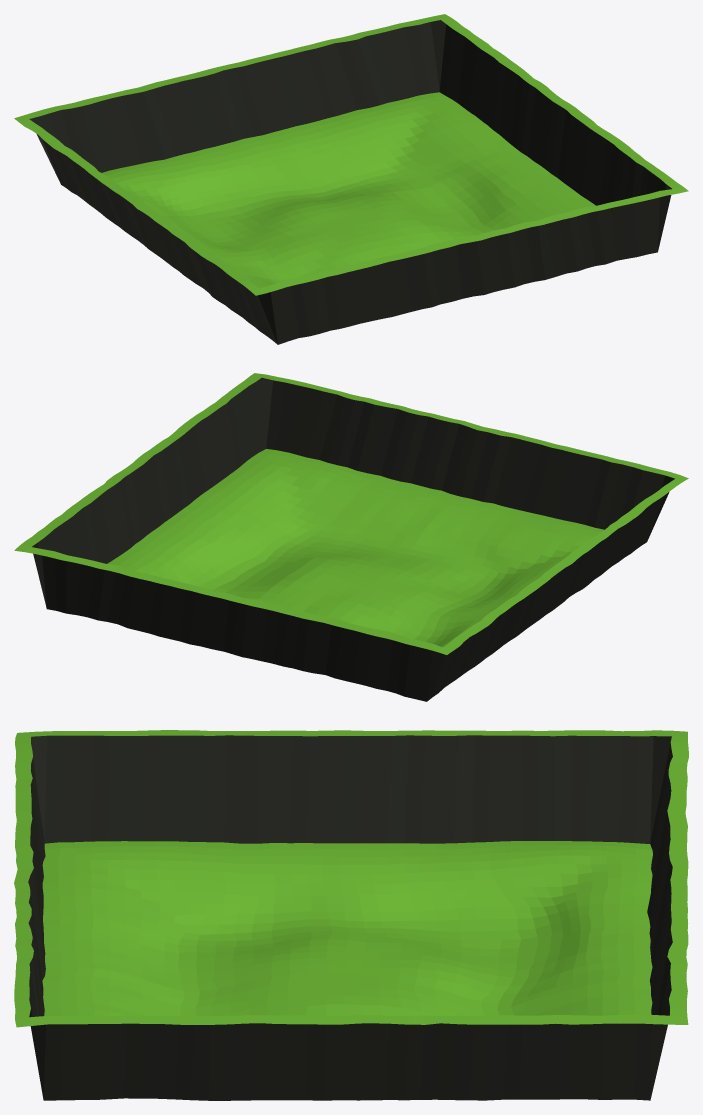
The model's file is Terrain1.fbx.
3 views of the same model, one above another, from view 1: azimuth 30°, elevation 25°; view 2: azimuth 150°, elevation 25°; view 3: azimuth 270°, elevation 25° (orthographic). The views are drawn at different scales.
Visible parts, largest first — view 1: Plane; view 2: Plane; view 3: Plane.
Boxes of the visible parts, bbox=[...] form: Plane: bbox=[14, 14, 688, 344]; Plane: bbox=[14, 373, 688, 701]; Plane: bbox=[14, 730, 688, 1100].
Bounding box in the file's own units: 20737 × 4021 × 20081.
